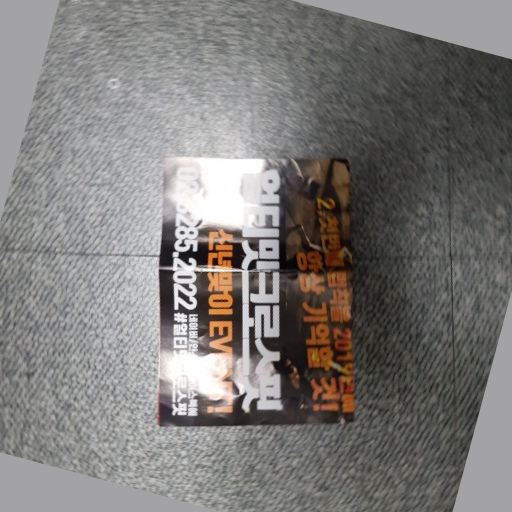Paper_2: (146, 156, 372, 433)
